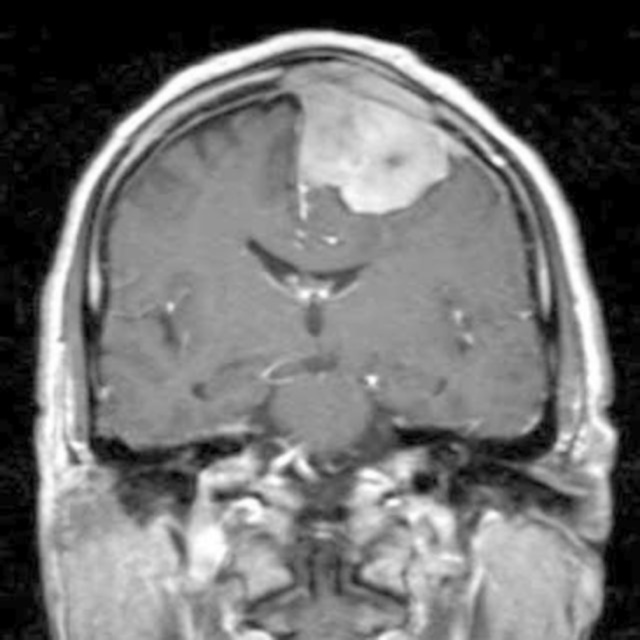meningioma tumor: (271, 60, 469, 232)
